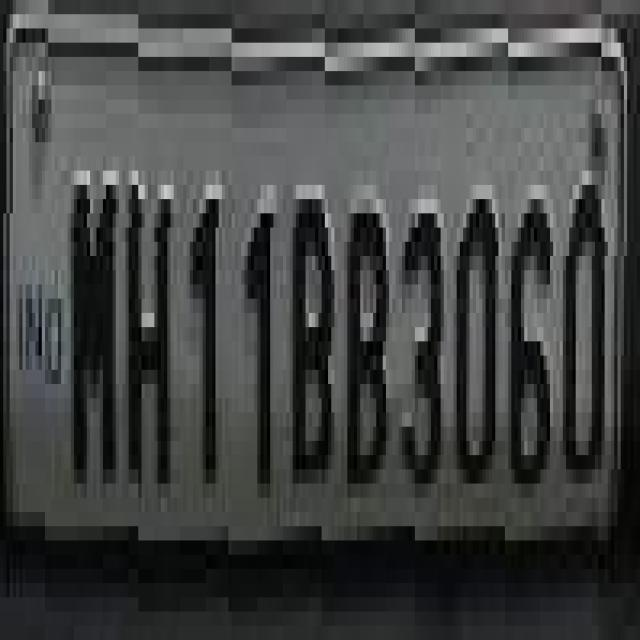license_plate: (0, 29, 605, 612)
